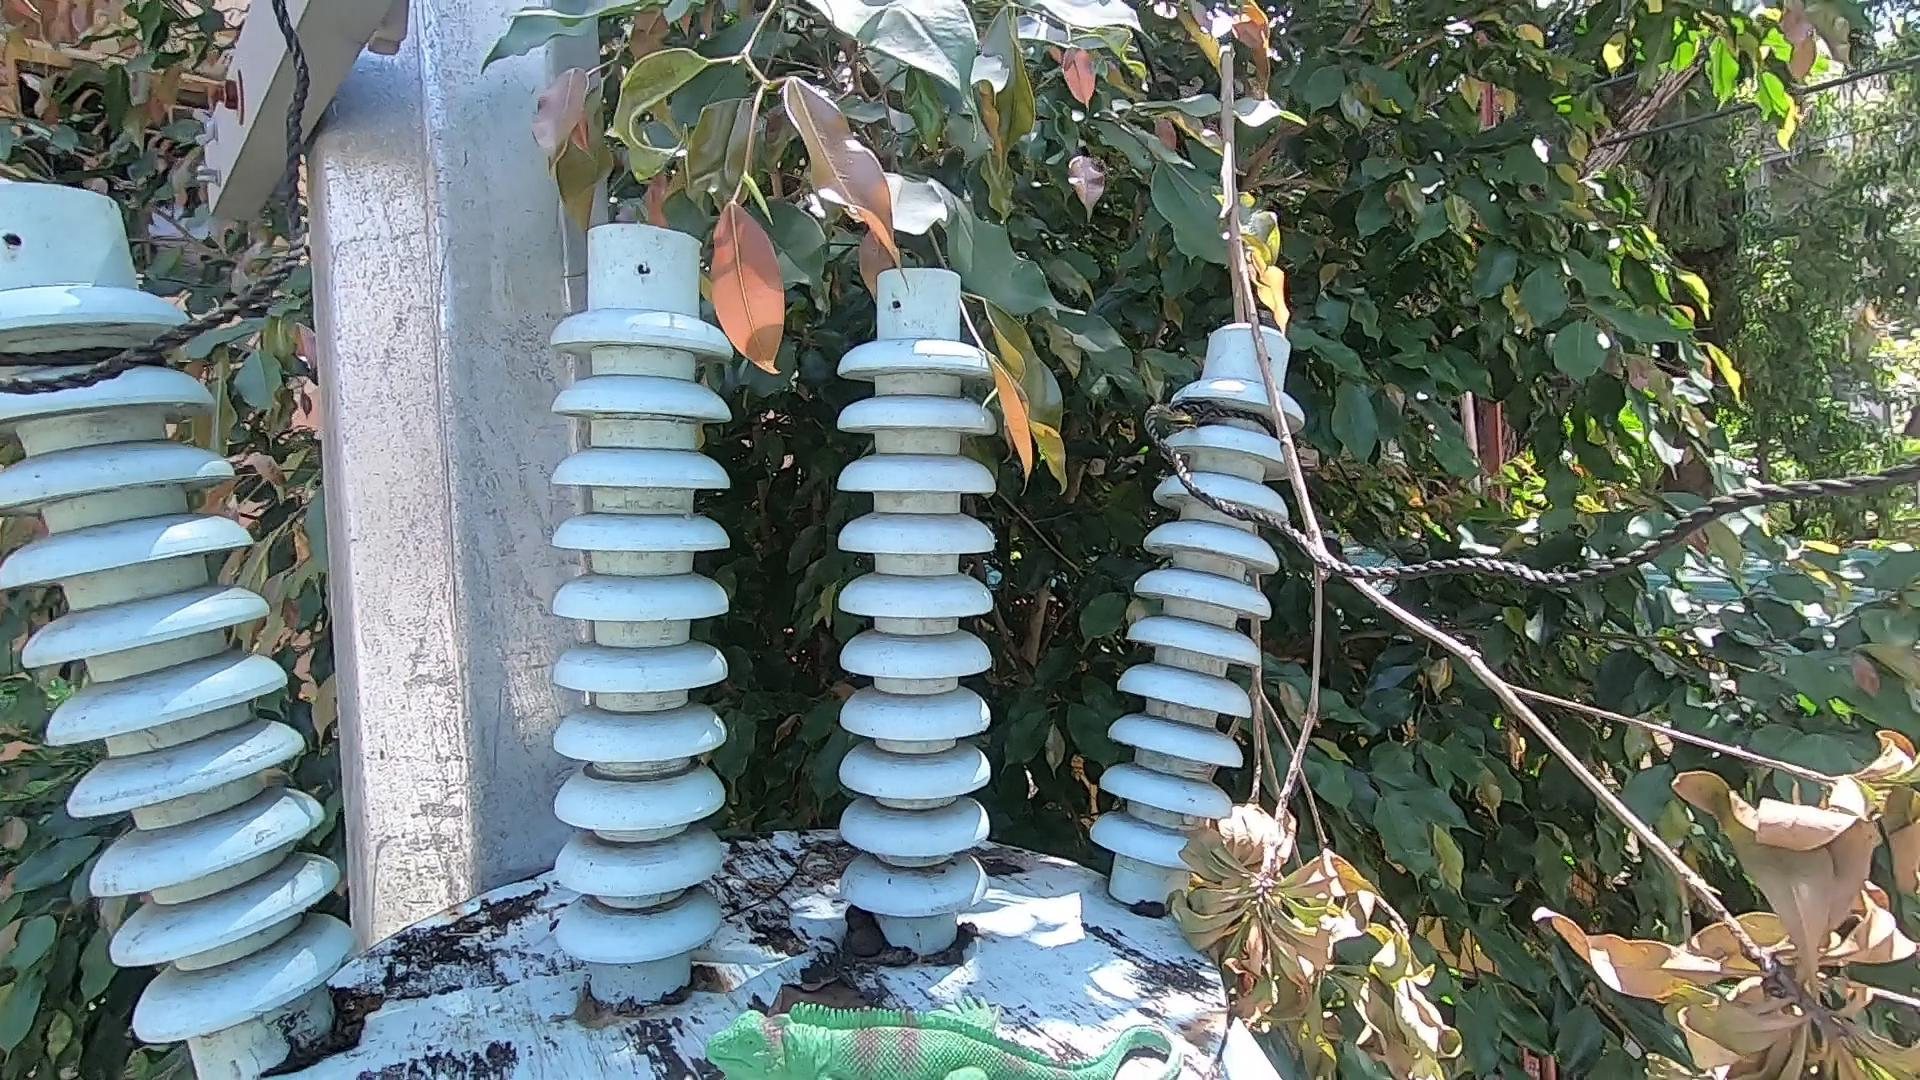branch with leaves: (1167, 30, 1913, 1080)
leaf: (762, 967, 895, 1005), (909, 916, 992, 971), (829, 902, 887, 947)
tree branch: (729, 847, 825, 919)
